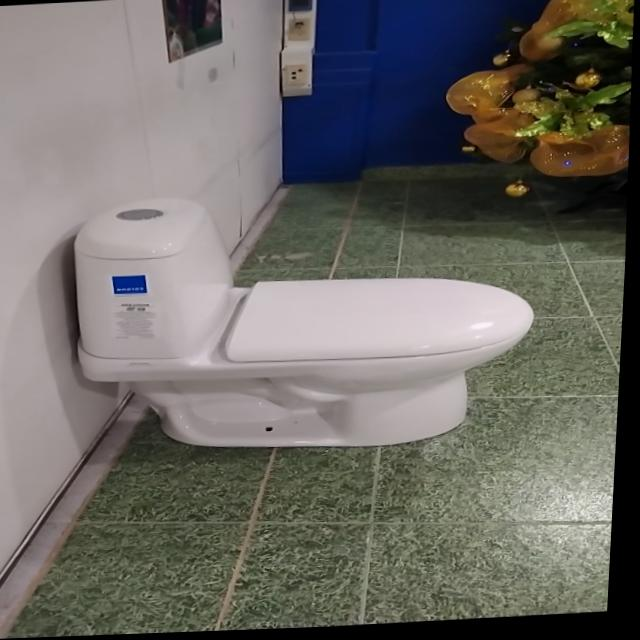toilet: (65, 180, 546, 464)
